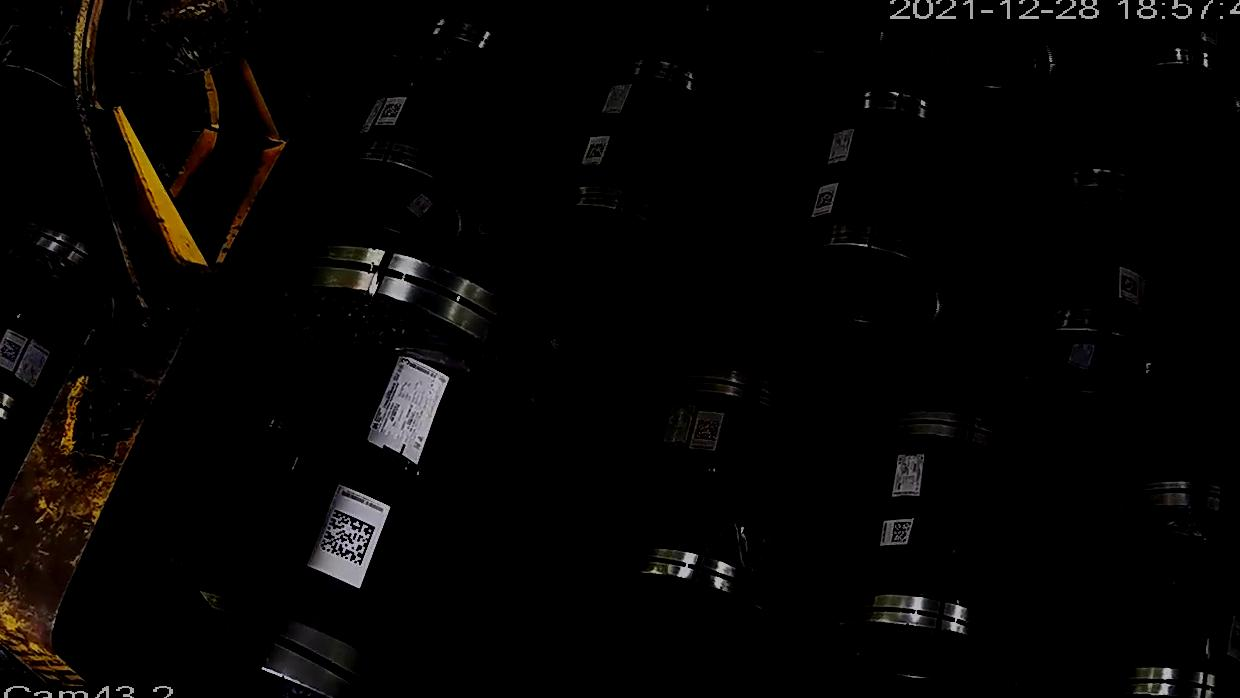data matrix: (318, 506, 379, 570), (1118, 272, 1143, 301), (1, 336, 25, 366), (693, 419, 722, 443), (584, 139, 608, 164), (891, 520, 914, 545), (815, 190, 837, 210), (380, 103, 403, 121), (1229, 625, 1240, 657)
